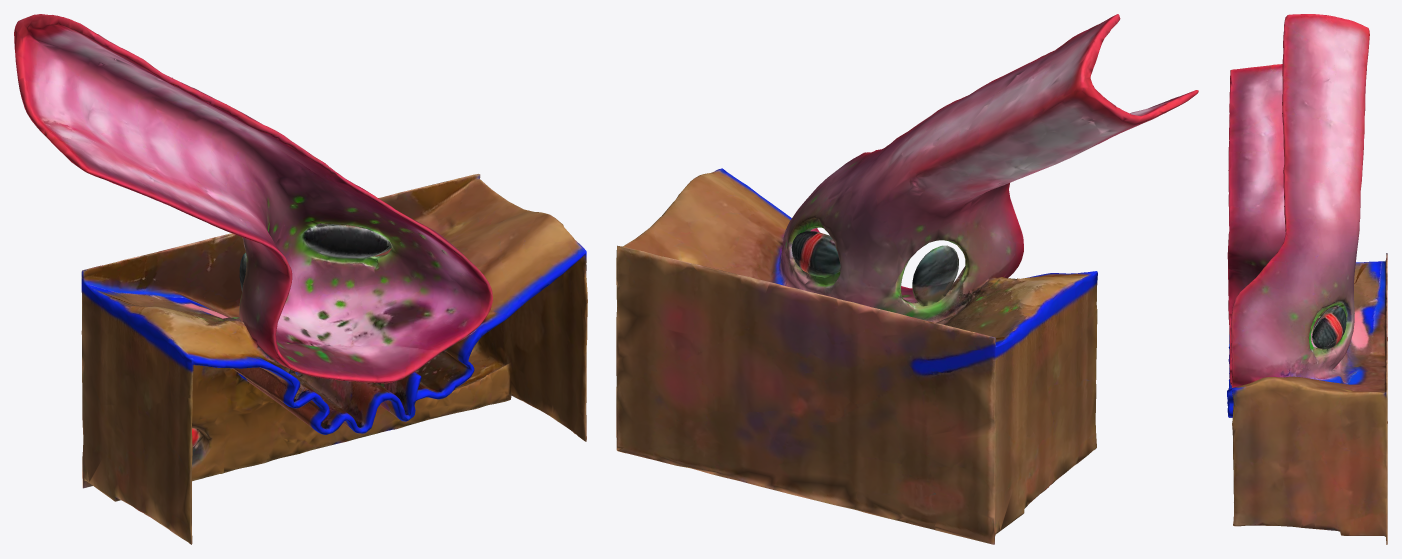
The model's file is neuromuscular-junction-lite.glb.
3 views of the same model, side by side, from view 1: azimuth 30°, elevation 25°; view 2: azimuth 150°, elevation 25°; view 3: azimuth 270°, elevation 25° (orthographic). The views are drawn at different scales.
Parts seen in each view (by area): view 1: Object_4; view 2: Object_4; view 3: Object_4.
Part boxes in pixels (x1=…): Object_4: x1=14, y1=14, x2=587, y2=544; Object_4: x1=616, y1=14, x2=1198, y2=544; Object_4: x1=1227, y1=14, x2=1387, y2=544.
Size of the model in its own units: 1.9 by 1.88 by 0.735.
1 material, 1 textured.
